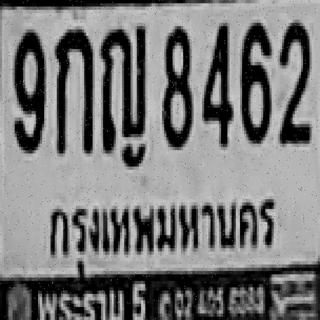A01: (55, 26, 93, 150)
A13: (100, 23, 146, 150)
N02: (278, 20, 310, 140)
N04: (202, 20, 232, 144)
N06: (240, 20, 270, 140)
N08: (161, 23, 192, 147)
N09: (13, 29, 44, 150)
P04: (45, 195, 280, 272)
